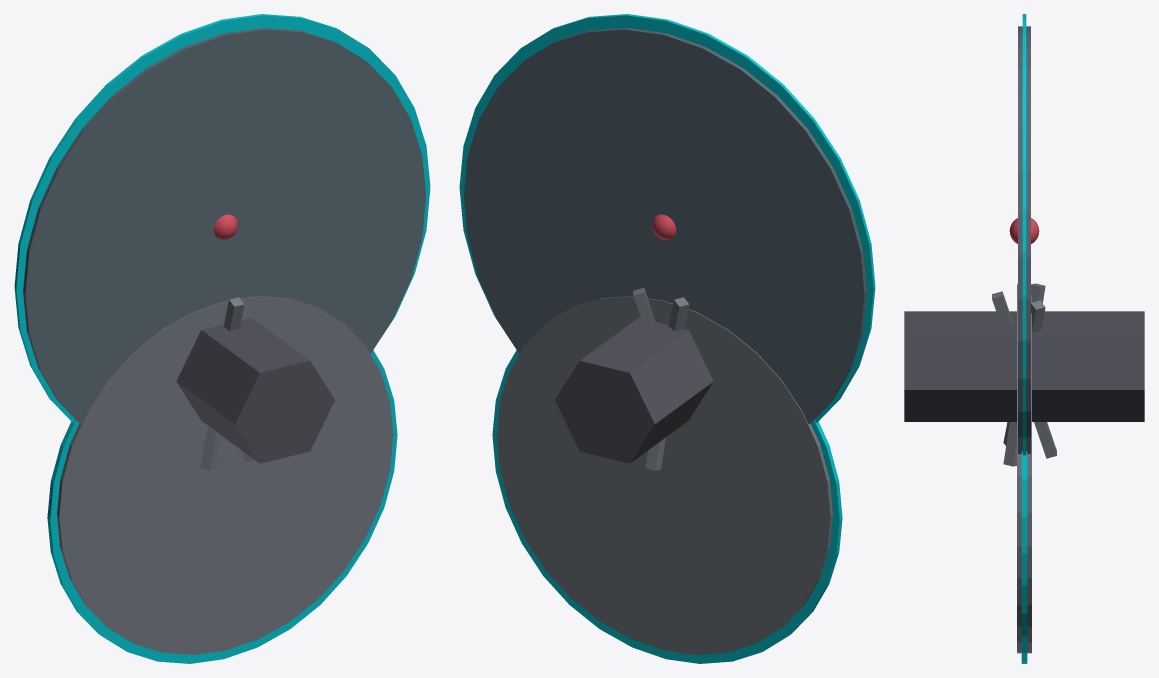
File: SciFiTable.glb
The picture shows the model from 3 angles, left to right: view 1: azimuth 30°, elevation 25°; view 2: azimuth 150°, elevation 25°; view 3: azimuth 270°, elevation 25°; orthographic projection. The views are drawn at different scales.
Parts seen in each view (by area): view 1: Tabletop, Base, Pedestal, TopGlow, BaseGlow, Strut1; view 2: Tabletop, Base, Pedestal, TopGlow, BaseGlow; view 3: Pedestal, Tabletop, Base, TopGlow, BaseGlow, Strut0, Strut2, Strut1.
Part boxes in pixels (x1,y1,x2,y2): Tabletop: [23, 28, 426, 424]; Base: [57, 296, 393, 654]; Pedestal: [176, 317, 334, 463]; TopGlow: [14, 14, 430, 422]; BaseGlow: [47, 350, 397, 663]; Strut1: [200, 426, 221, 470]; Tabletop: [463, 28, 866, 424]; Base: [496, 296, 832, 654]; Pedestal: [555, 317, 713, 463]; TopGlow: [459, 14, 875, 422]; BaseGlow: [492, 350, 842, 663]; Pedestal: [904, 311, 1144, 421]; Tabletop: [1018, 26, 1030, 453]; Base: [1017, 284, 1031, 653]; TopGlow: [1022, 14, 1026, 455]; BaseGlow: [1021, 451, 1027, 663]; Strut0: [992, 291, 1056, 458]; Strut2: [1003, 283, 1045, 466]; Strut1: [1003, 300, 1045, 445].
Bounding box in the file's own units: 1.24 × 1.83 × 0.65.
